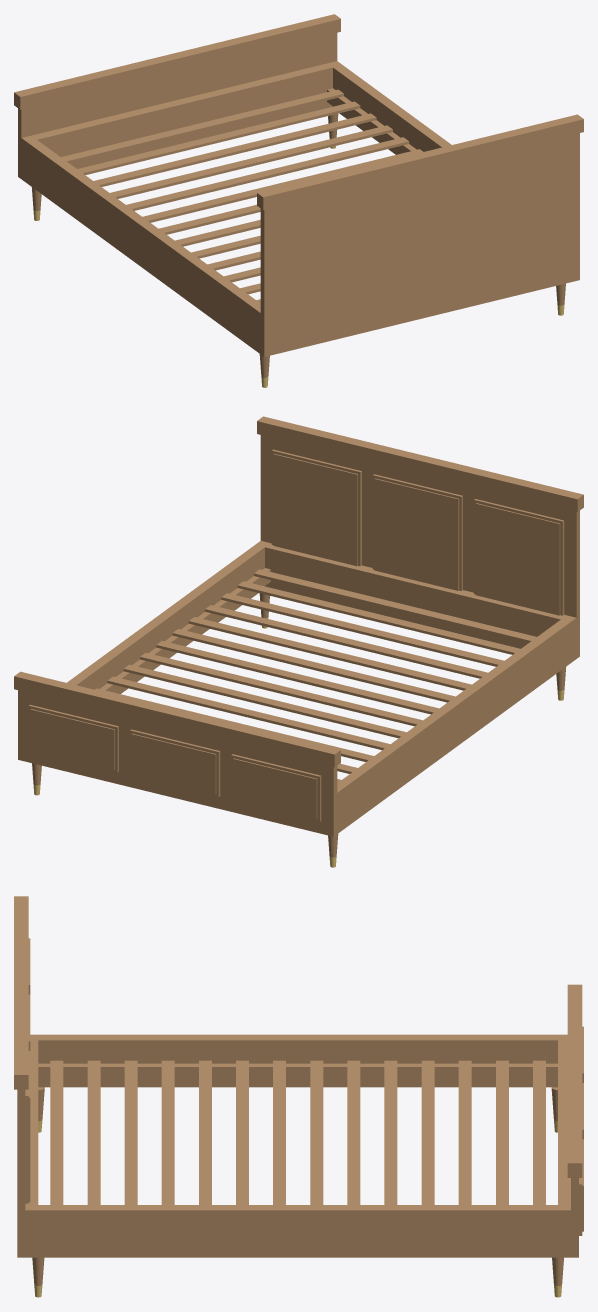
The picture shows the model from 3 angles, top to bottom: view 1: azimuth 30°, elevation 25°; view 2: azimuth 150°, elevation 25°; view 3: azimuth 270°, elevation 25°; orthographic projection. The views are drawn at different scales.
Visible parts, largest first — view 1: headboard, bed_frame_base, footboard, slat.009, slat.011, slat.012, slat.010, slat.013, slat.008, slat.007, slat.006, slat.005; view 2: headboard, bed_frame_base, footboard, slat.004, slat.005, slat.009, slat.001, slat.006, slat.007, slat.008, slat.002, slat.003 (+2 smaller); view 3: bed_frame_base, headboard, footboard, slat, slat.001, slat.002, slat.003, slat.007, slat.008, slat.009, slat.010, slat.011 (+5 smaller).
Boxes of the visible parts, left/top/right/bottom form: headboard: left=257, top=114, right=583, bottom=356; bed_frame_base: left=21, top=61, right=451, bottom=353; footboard: left=14, top=14, right=340, bottom=178; slat.009: left=126, top=137, right=409, bottom=210; slat.011: left=94, top=113, right=376, bottom=186; slat.012: left=77, top=101, right=360, bottom=174; slat.010: left=110, top=125, right=392, bottom=198; slat.013: left=61, top=89, right=343, bottom=163; slat.008: left=142, top=149, right=423, bottom=222; slat.007: left=159, top=204, right=260, bottom=234; slat.006: left=175, top=219, right=260, bottom=246; slat.005: left=191, top=235, right=260, bottom=258; headboard: left=257, top=416, right=583, bottom=658; bed_frame_base: left=67, top=541, right=576, bottom=833; footboard: left=14, top=671, right=340, bottom=836; slat.004: left=188, top=617, right=471, bottom=690; slat.005: left=172, top=629, right=455, bottom=702; slat.009: left=107, top=676, right=390, bottom=750; slat.001: left=237, top=581, right=520, bottom=654; slat.006: left=156, top=641, right=438, bottom=714; slat.007: left=140, top=652, right=422, bottom=726; slat.008: left=123, top=664, right=406, bottom=738; slat.002: left=221, top=593, right=504, bottom=666; slat.003: left=205, top=605, right=487, bottom=678; bed_frame_base: left=25, top=1034, right=570, bottom=1257; headboard: left=14, top=896, right=30, bottom=1257; footboard: left=567, top=984, right=583, bottom=1257; slat: left=50, top=1060, right=63, bottom=1204; slat.001: left=87, top=1060, right=100, bottom=1204; slat.002: left=124, top=1060, right=137, bottom=1204; slat.003: left=161, top=1060, right=174, bottom=1204; slat.007: left=310, top=1060, right=323, bottom=1204; slat.008: left=347, top=1060, right=360, bottom=1204; slat.009: left=384, top=1060, right=397, bottom=1204; slat.010: left=421, top=1060, right=434, bottom=1204; slat.011: left=458, top=1060, right=471, bottom=1204.
Size of the model in its own units: 2.6 by 1.55 by 3.51.
